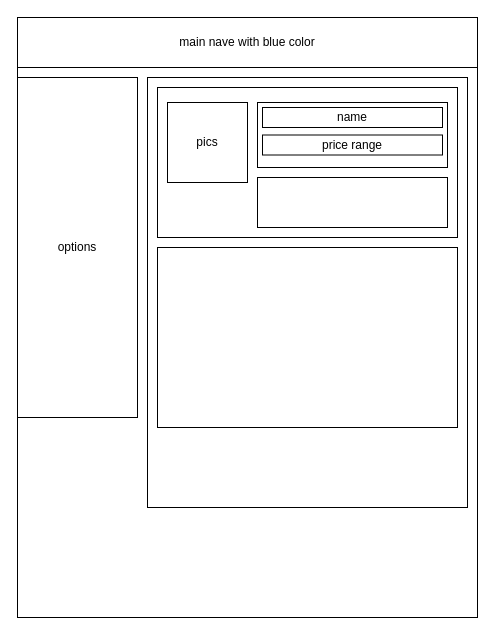
This 495x635 diagram has some shape labels left out. The shapes that lost their labels are listed below. From the top down, each one's box as (x1, y1, x2, y2) in pixels, then its label:
(256, 176, 448, 228): descreption or kewords
(156, 246, 458, 428): Set according option select
